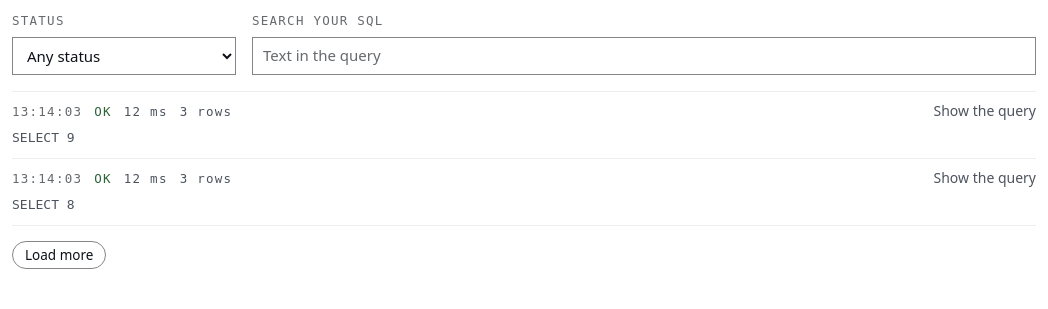
Test: my queries › loads more after the last query held
Click the button "Load more". click: (59, 255)
box: [12, 241, 106, 269]
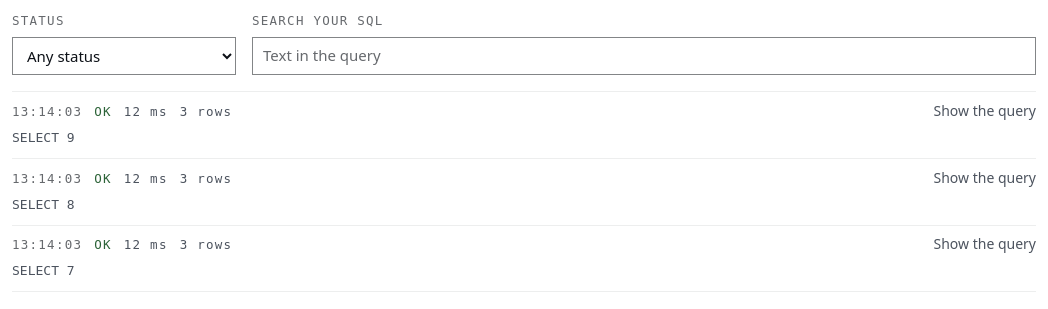
Check: the button "Load more" is not shown
Check: the number of list items is 3, box [12, 92, 1036, 159]; [12, 158, 1036, 225]; [12, 225, 1036, 292]
